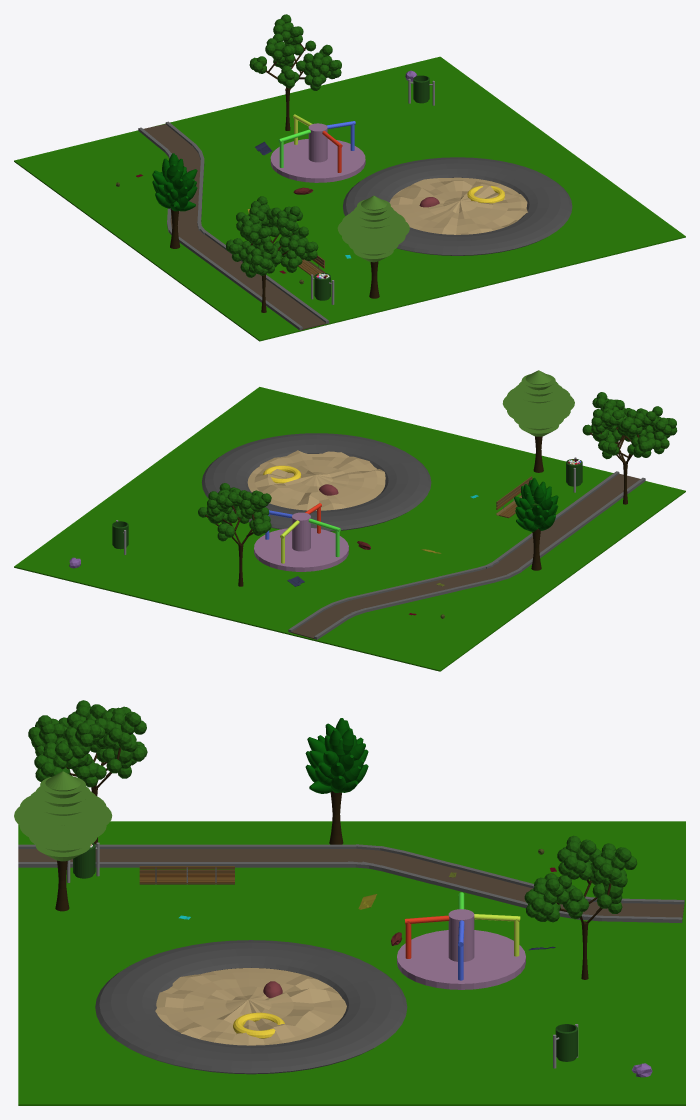
Rendered from Knysn a Environment 1.fbx.
The picture shows the model from 3 angles, top to bottom: view 1: azimuth 30°, elevation 25°; view 2: azimuth 150°, elevation 25°; view 3: azimuth 270°, elevation 25°; orthographic projection. The views are drawn at different scales.
Parts seen in each view (by area): view 1: Cube.004, Torus, Cube.025, Sphere.009, Cylinder.001, Cylinder.002, Cylinder.038, Cylinder.006, Cylinder.037, Cylinder.007, Cylinder.005, Cylinder.004; view 2: Cube.004, Torus, Cube.025, Sphere.009, Cylinder.001, Cylinder.038, Cylinder.002, Cylinder.006, Cylinder.037, Cylinder.007, Cylinder.005; view 3: Cube.004, Torus, Cube.025, Sphere.009, Cylinder.001, Cylinder.038, Cylinder.002, Cylinder.006, Cylinder.037, Cylinder.007, Cylinder.005, Cylinder.004 (+1 smaller).
Part boxes in pixels (<box>): Cube.004: <box>14,56,685,341</box>; Torus: <box>343,157,572,255</box>; Cube.025: <box>138,121,329,330</box>; Sphere.009: <box>389,177,527,234</box>; Cylinder.001: <box>226,196,318,312</box>; Cylinder.002: <box>249,14,341,130</box>; Cylinder.038: <box>337,195,409,298</box>; Cylinder.006: <box>270,139,365,182</box>; Cylinder.037: <box>152,153,197,248</box>; Cylinder.007: <box>308,123,327,162</box>; Cylinder.005: <box>408,75,434,105</box>; Cylinder.004: <box>311,273,334,304</box>; Cube.004: <box>14,387,685,671</box>; Torus: <box>201,433,431,531</box>; Cube.025: <box>288,471,645,639</box>; Sphere.009: <box>247,450,385,510</box>; Cylinder.001: <box>582,392,677,504</box>; Cylinder.038: <box>502,370,574,472</box>; Cylinder.002: <box>198,483,271,586</box>; Cylinder.006: <box>254,528,348,571</box>; Cylinder.037: <box>514,477,558,570</box>; Cylinder.007: <box>292,512,310,551</box>; Cylinder.005: <box>112,520,128,554</box>; Cube.004: <box>18,821,685,1105</box>; Torus: <box>95,940,407,1074</box>; Cube.025: <box>18,844,684,922</box>; Sphere.009: <box>155,968,346,1045</box>; Cylinder.001: <box>28,700,147,844</box>; Cylinder.038: <box>14,771,112,911</box>; Cylinder.002: <box>524,835,637,979</box>; Cylinder.006: <box>397,930,525,989</box>; Cylinder.037: <box>305,718,368,844</box>; Cylinder.007: <box>448,909,474,961</box>; Cylinder.005: <box>553,1024,578,1068</box>; Cylinder.004: <box>67,842,99,882</box>.
Bounding box in the file's own units: 8635 × 2126 × 8660.
